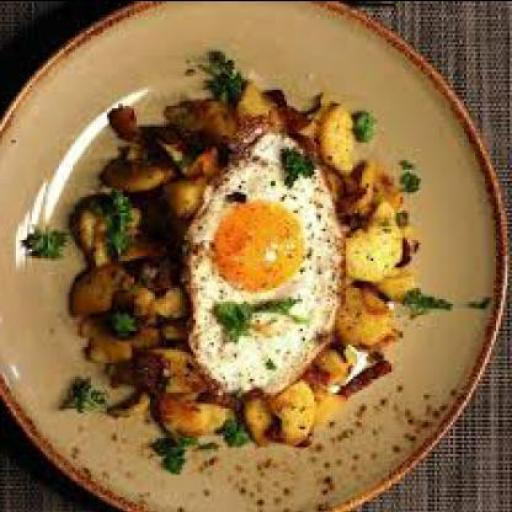biodegradable: (73, 75, 423, 437), (185, 123, 348, 387), (196, 48, 244, 100), (153, 432, 198, 471), (66, 373, 111, 412), (30, 225, 72, 260), (410, 287, 455, 311), (406, 157, 425, 191), (359, 110, 378, 139)
